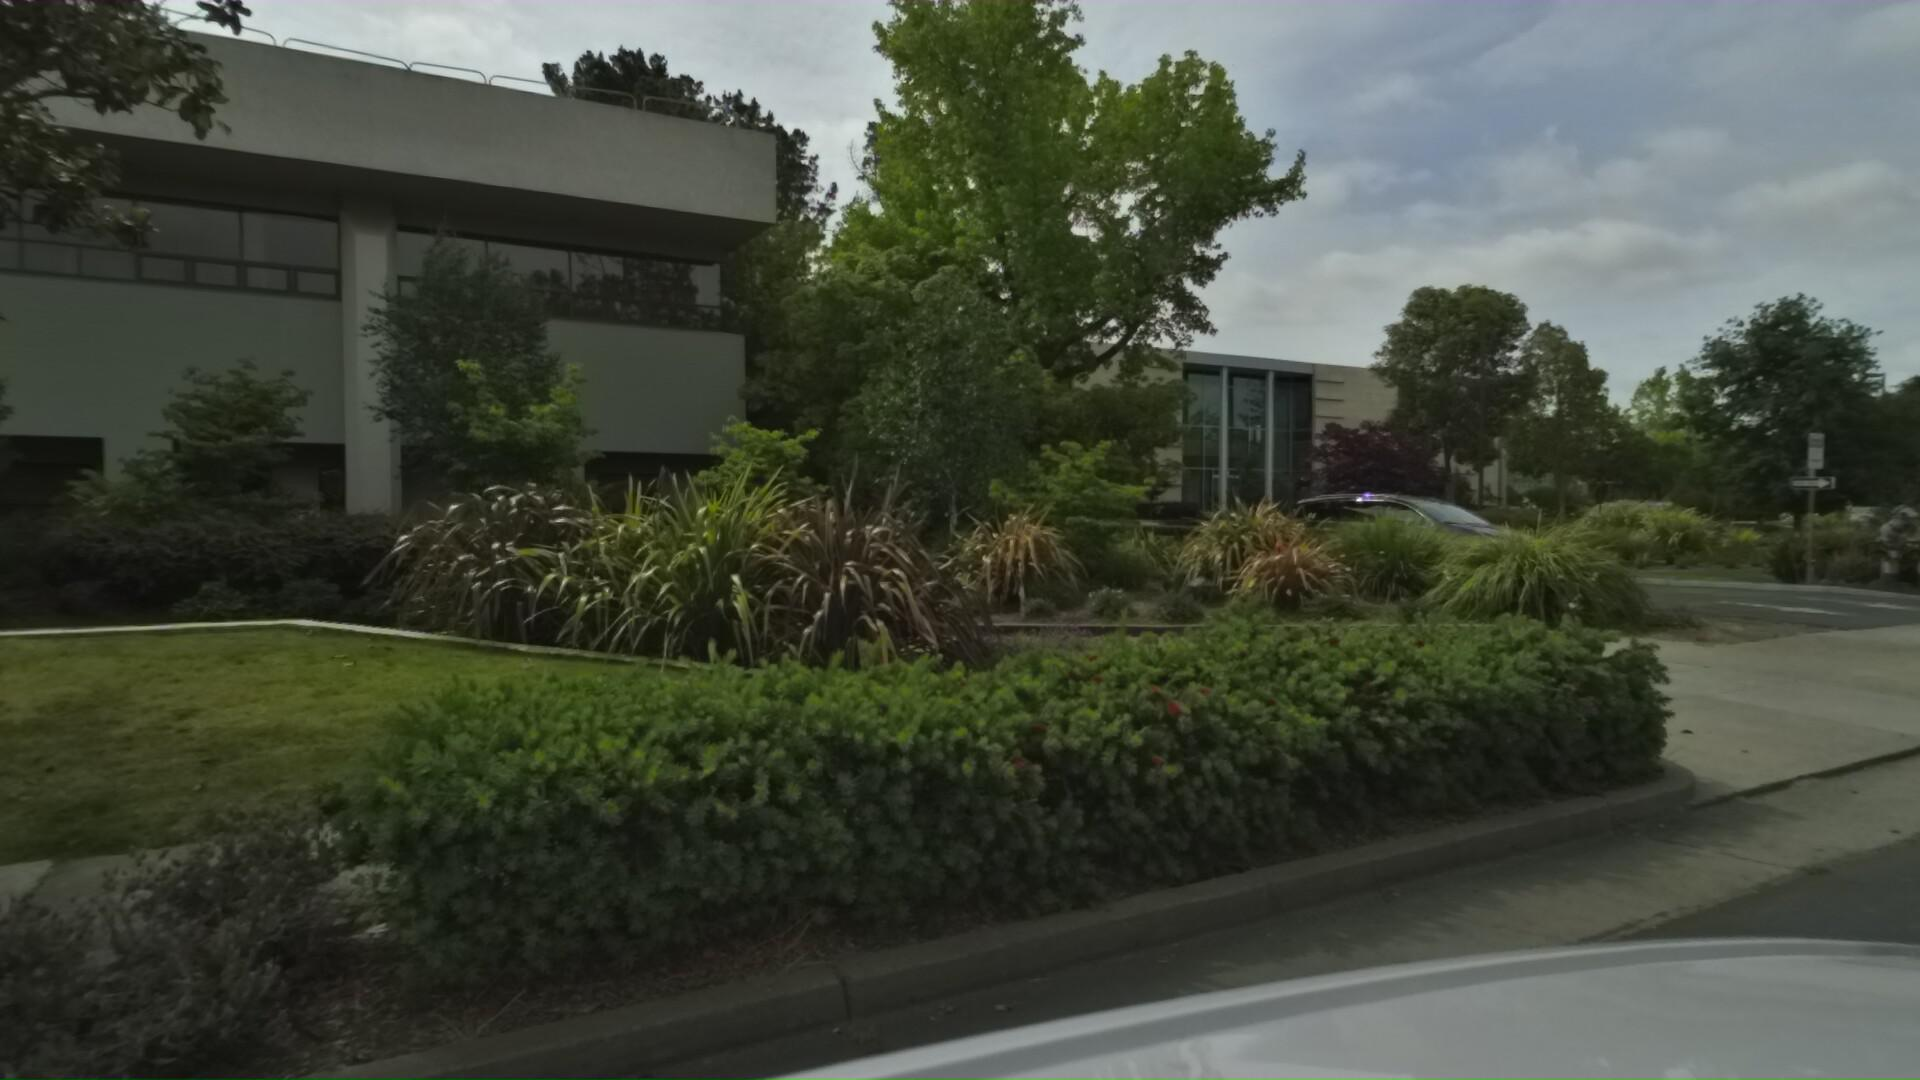car: (1294, 488, 1563, 585)
